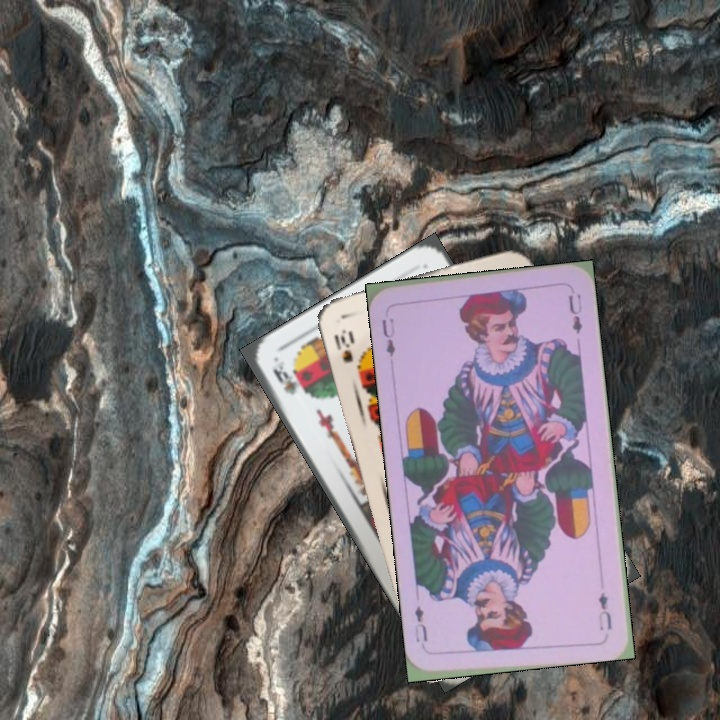EU: (377, 307, 398, 360), (594, 588, 614, 633)
S10: (330, 325, 356, 366)
SK: (268, 357, 301, 398)
